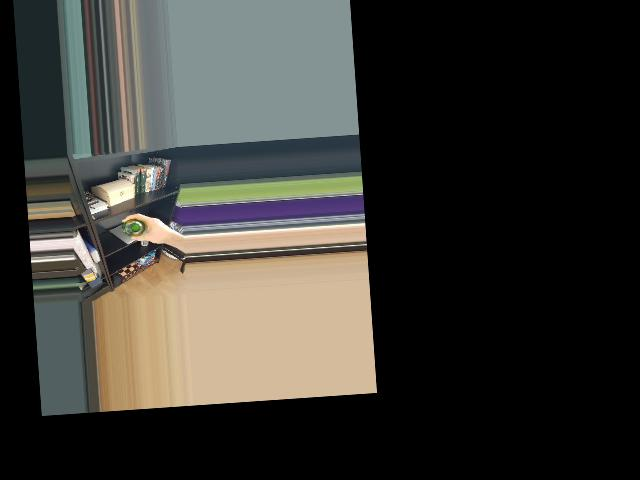beer: (123, 218, 145, 237)
